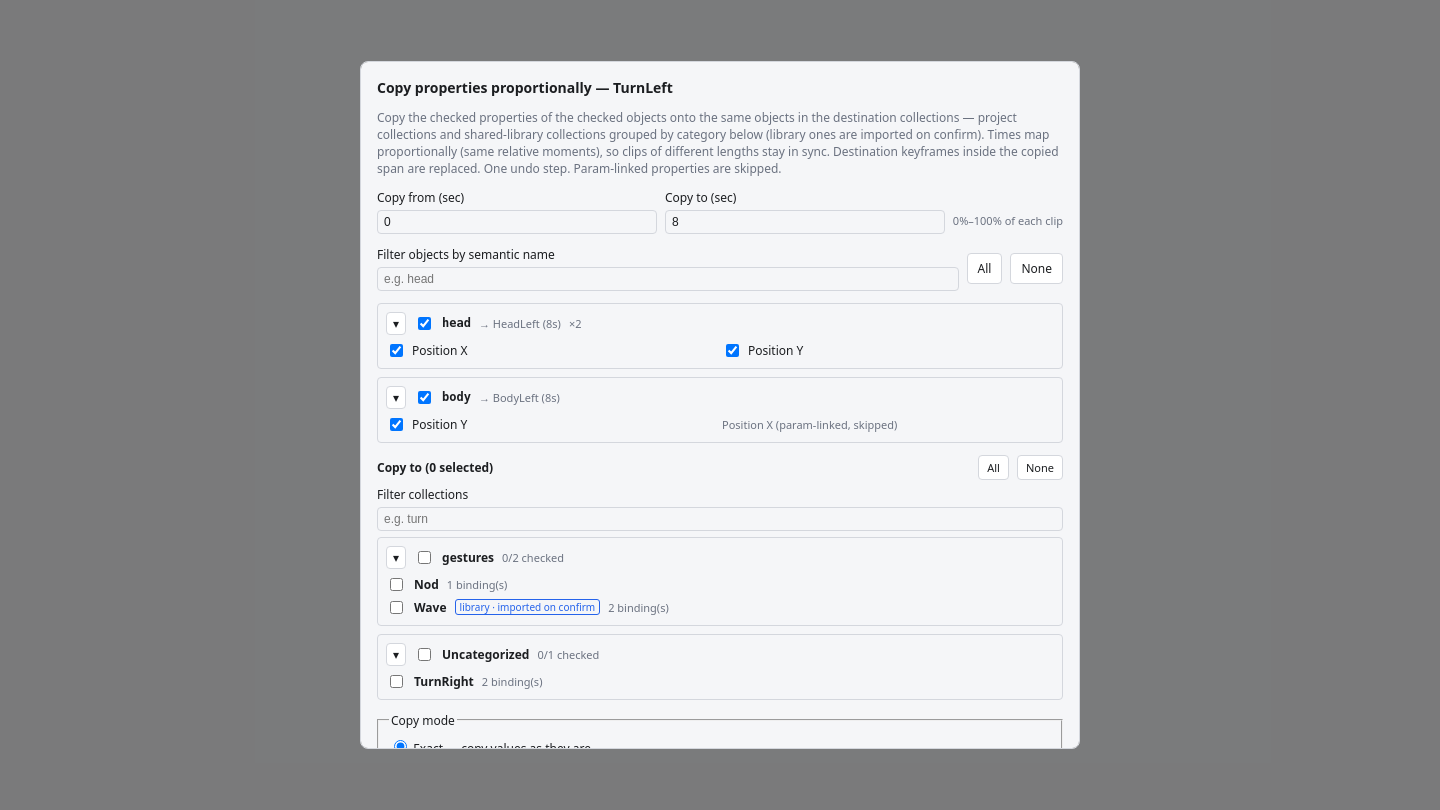
Test: ProportionalCopyModal › select-none leaves no bindings and blocks confirm
The width and height of the screenshot is (1440, 810).
Click the button with test id "proportional-copy-select-none": (1037, 268) [1010, 253, 1063, 284]
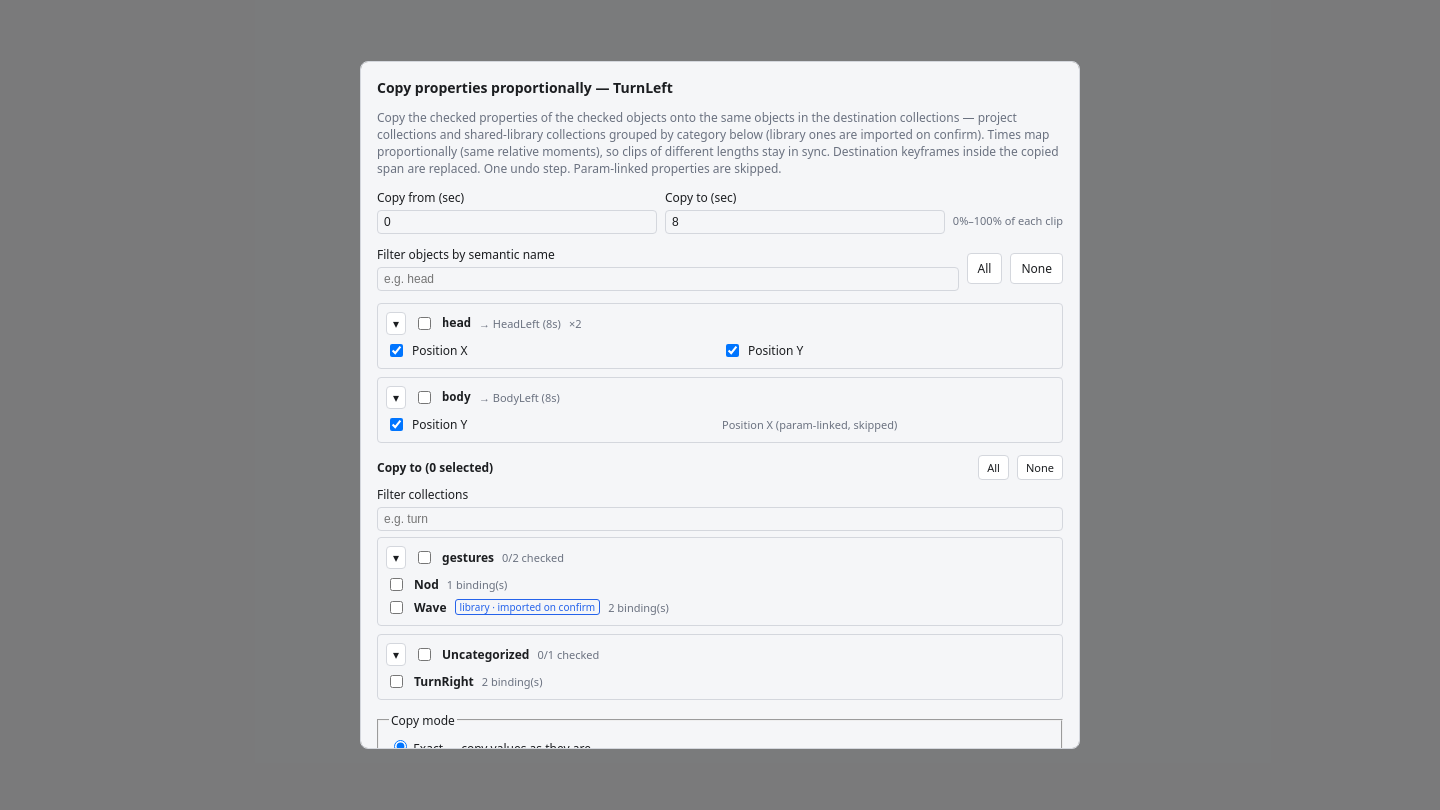
Click the checkbox labelled "TurnRight 2 binding(s)": (396, 681) [390, 675, 403, 688]
(page scrolled)
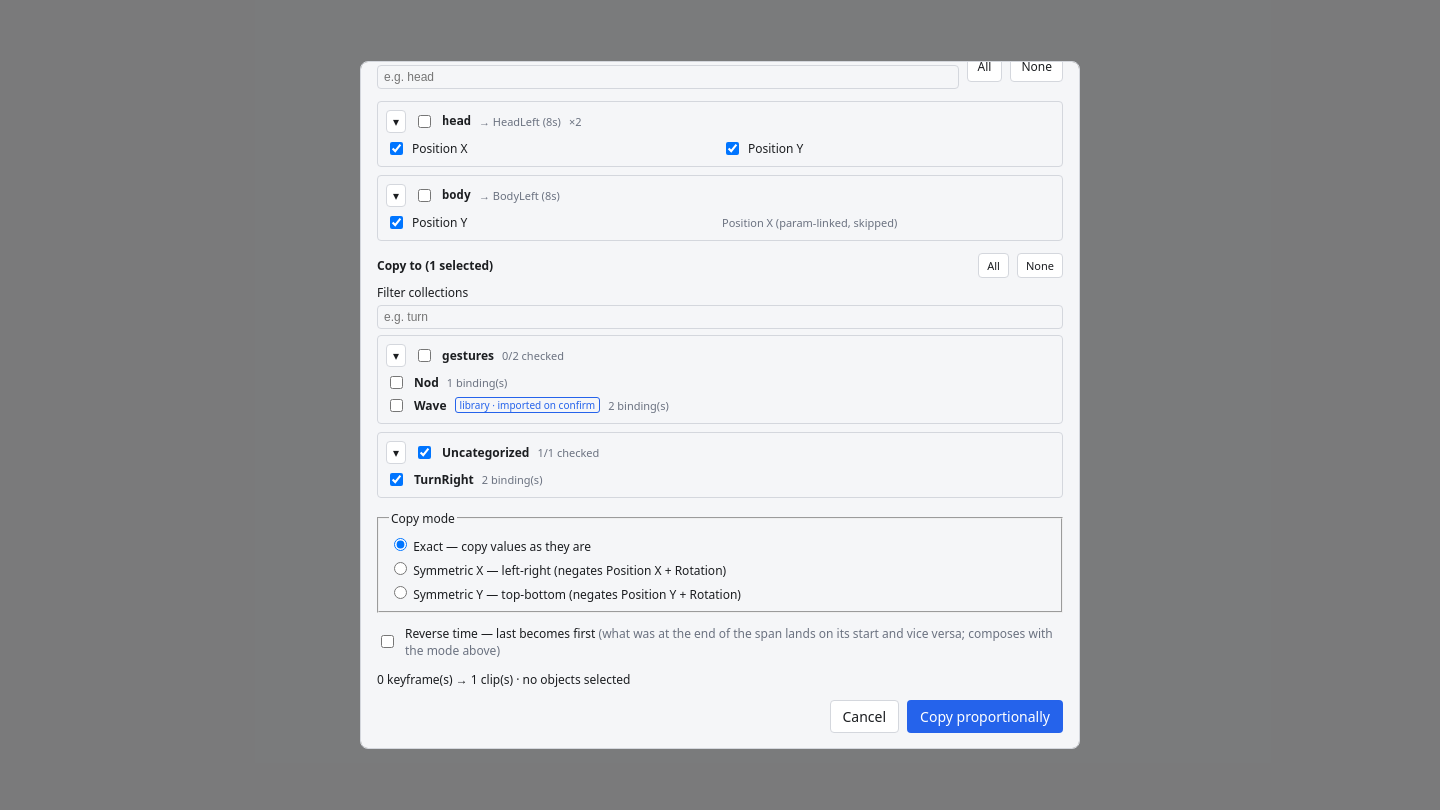
Click the button with test id "proportional-copy-confirm": (985, 716) [907, 700, 1063, 733]
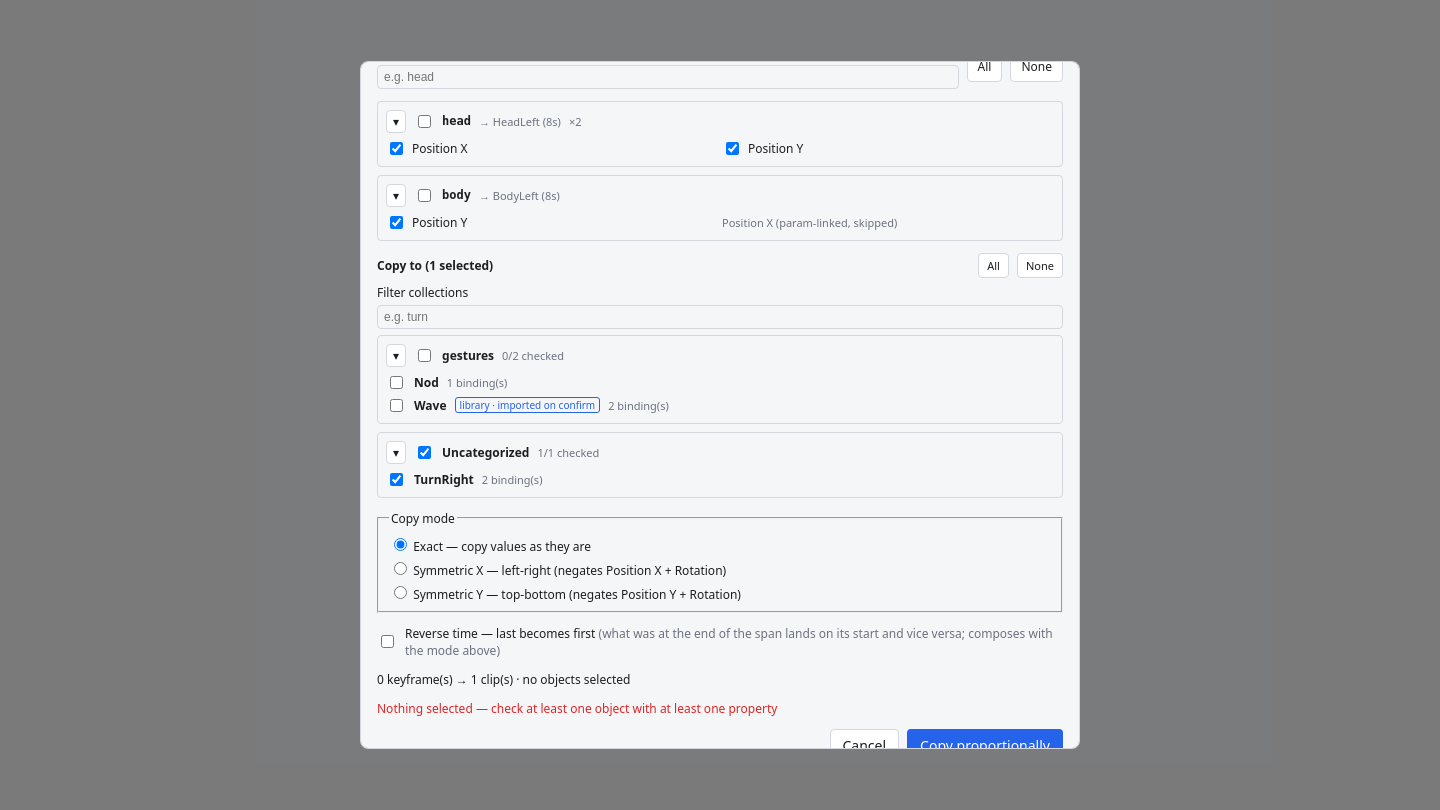
Result: the message with test id "proportional-copy-error" shows "Nothing selected" at [377, 700, 777, 717]
